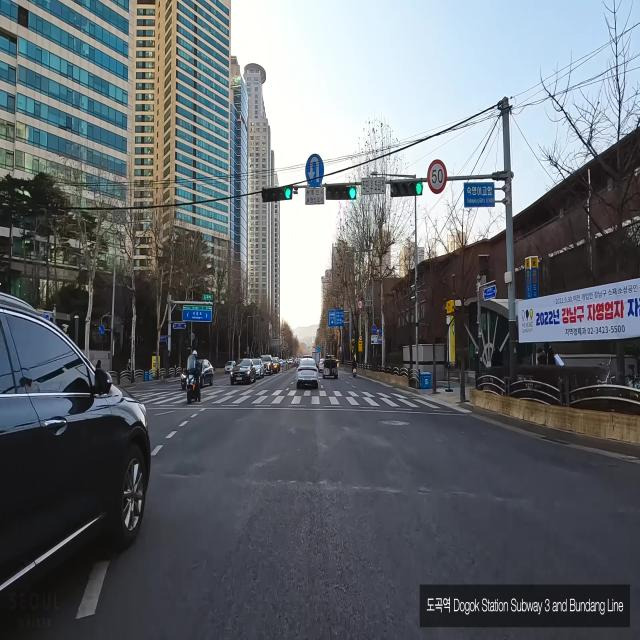Green Light: (284, 184, 292, 200), (348, 184, 356, 199), (416, 180, 422, 198)
